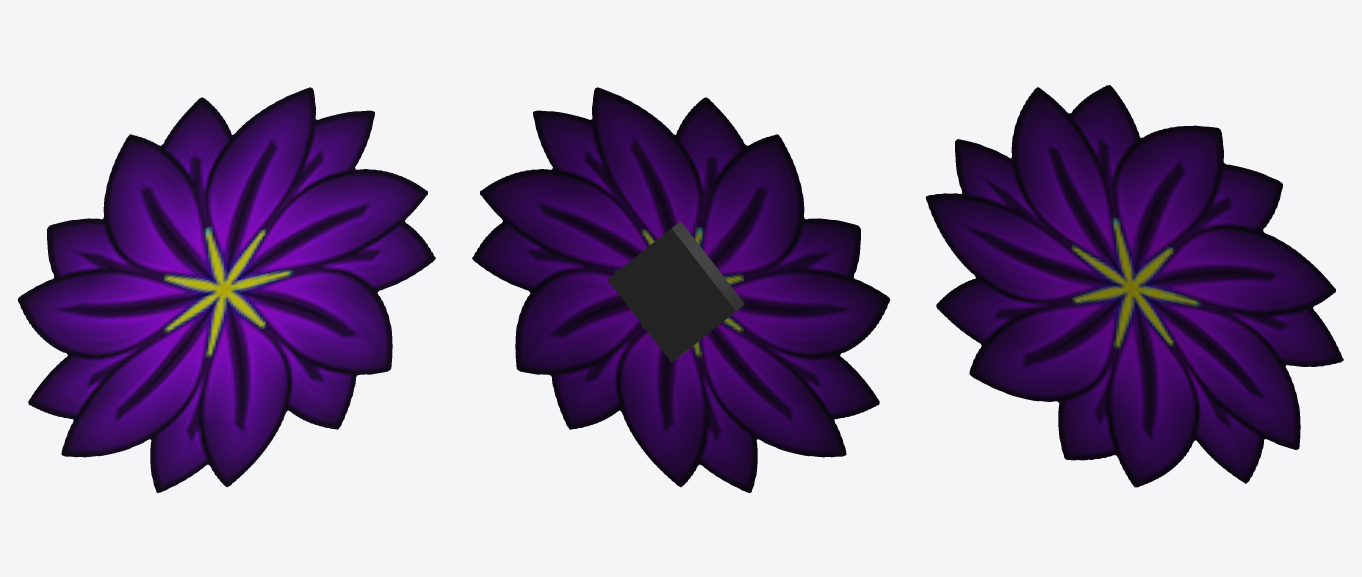
The model's file is Magnet_G.FBX.
The picture shows the model from 3 angles, left to right: view 1: azimuth 30°, elevation 25°; view 2: azimuth 150°, elevation 25°; view 3: azimuth 330°, elevation 25°; orthographic projection.
Visible parts, largest first — view 1: Fridge_Magnet; view 2: Fridge_Magnet; view 3: Fridge_Magnet.
Boxes of the visible parts, x1,y1,x2,y2 form: Fridge_Magnet: (17, 87, 435, 492); Fridge_Magnet: (472, 87, 890, 492); Fridge_Magnet: (925, 85, 1343, 487).
Size of the model in its own units: 25 by 25 by 0.9737.
